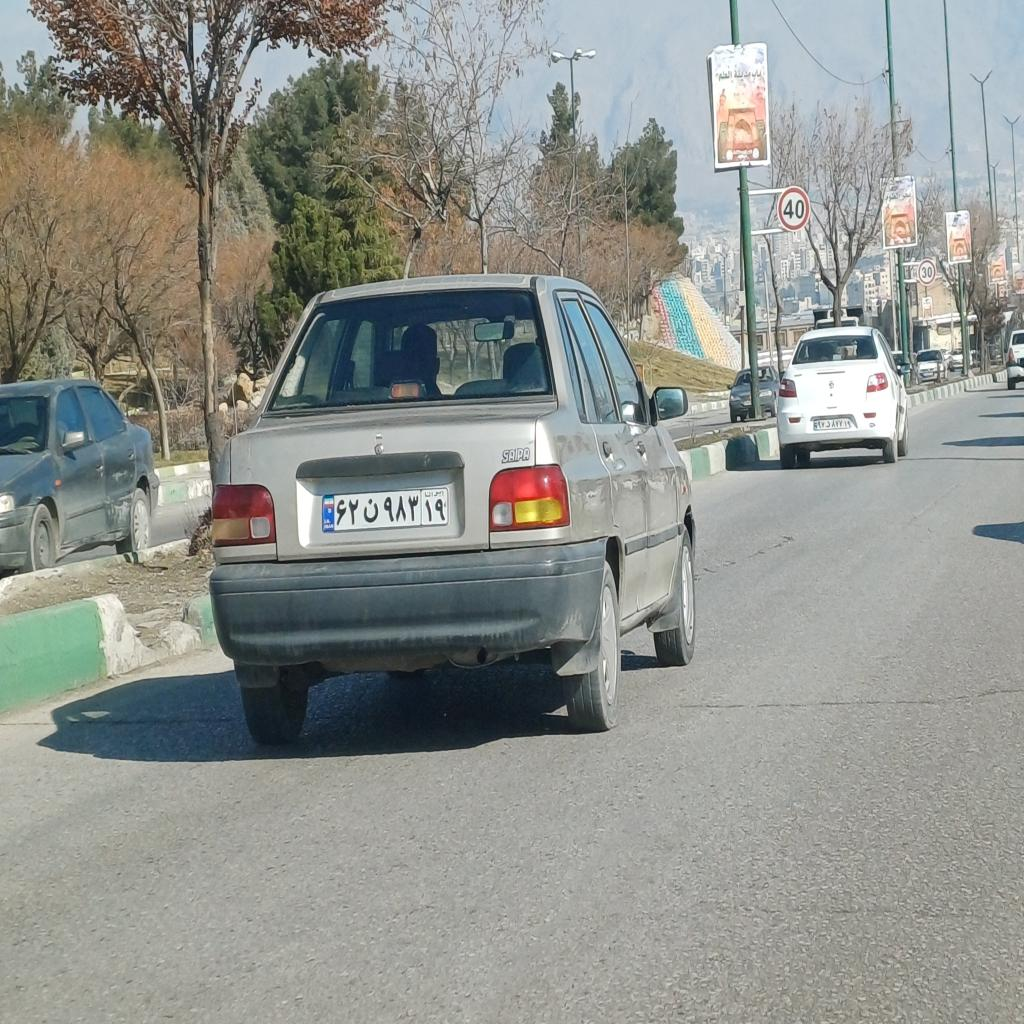Plates: (321, 485, 450, 532), (812, 418, 852, 431)
